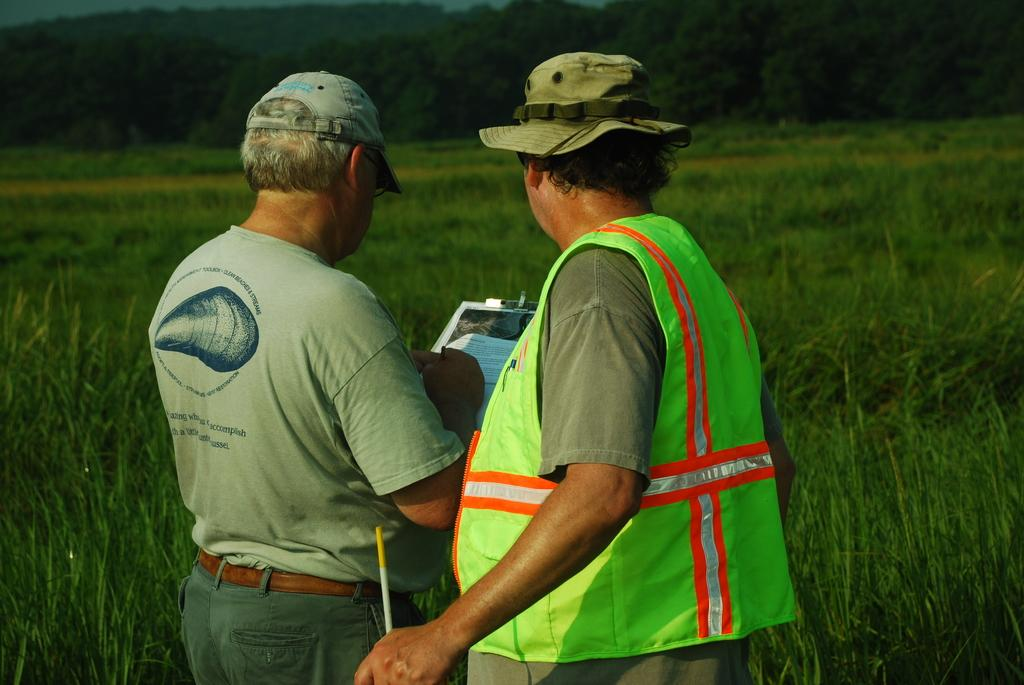Hat: (478, 47, 692, 154), (242, 69, 402, 192)
